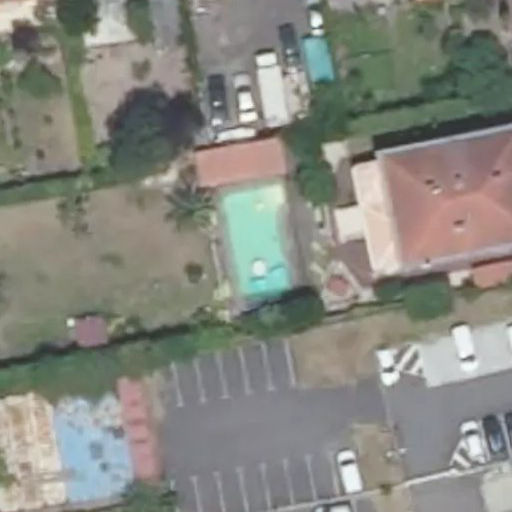pool: (221, 181, 302, 297), (302, 33, 338, 85)
